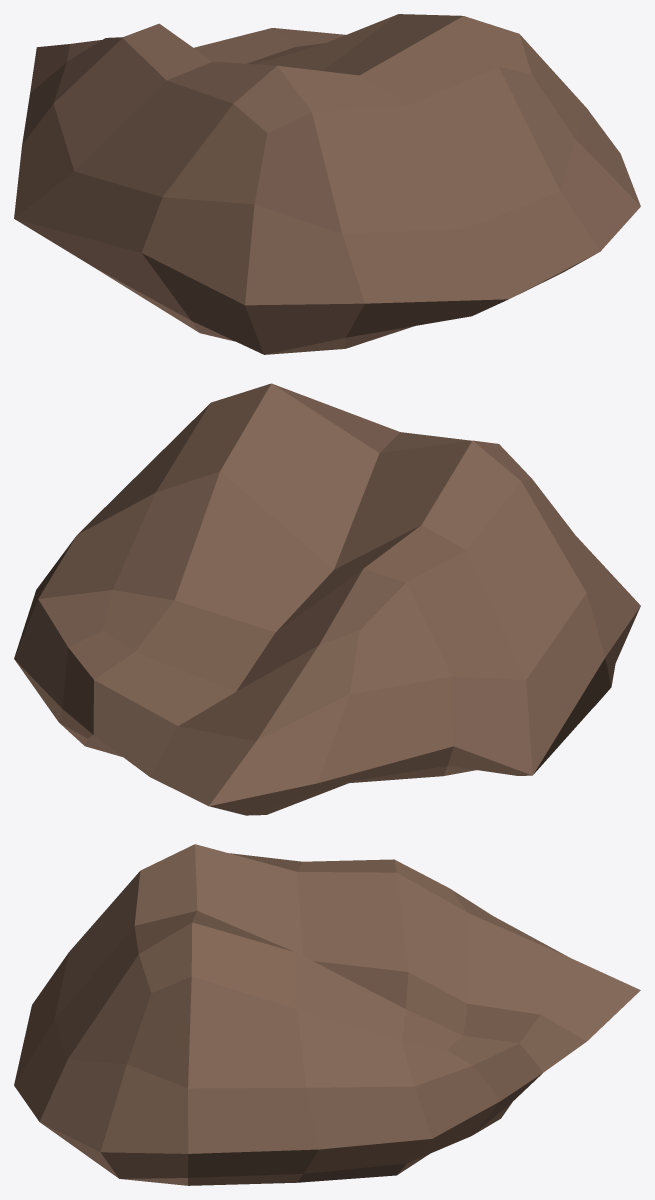
The model's file is dirt_2.fbx.
The picture shows the model from 3 angles, top to bottom: view 1: azimuth 30°, elevation 25°; view 2: azimuth 150°, elevation 25°; view 3: azimuth 270°, elevation 25°; orthographic projection. The views are drawn at different scales.
Visible parts, largest first — view 1: dirt_2.001; view 2: dirt_2.001; view 3: dirt_2.001.
Part boxes in pixels (bbox=[...]): dirt_2.001: bbox=[14, 14, 640, 354]; dirt_2.001: bbox=[14, 383, 640, 815]; dirt_2.001: bbox=[14, 844, 640, 1185].
Size of the model in its own units: 73.04 by 34.86 by 85.75.
